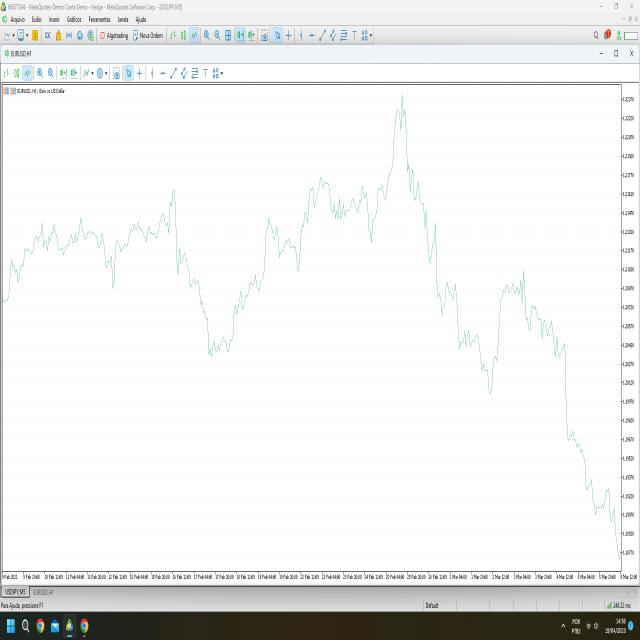bandeira_alta: (490, 250, 524, 400)
bandeira_baixa: (450, 272, 480, 354)
oco: (371, 90, 434, 231)
